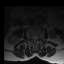CCS_normal: (33, 33, 35, 42)
LFS_normal: (37, 33, 40, 40)
LLS_normal: (35, 33, 37, 41)
RFS_normal: (29, 33, 31, 40)
RLS_normal: (31, 33, 33, 41)
